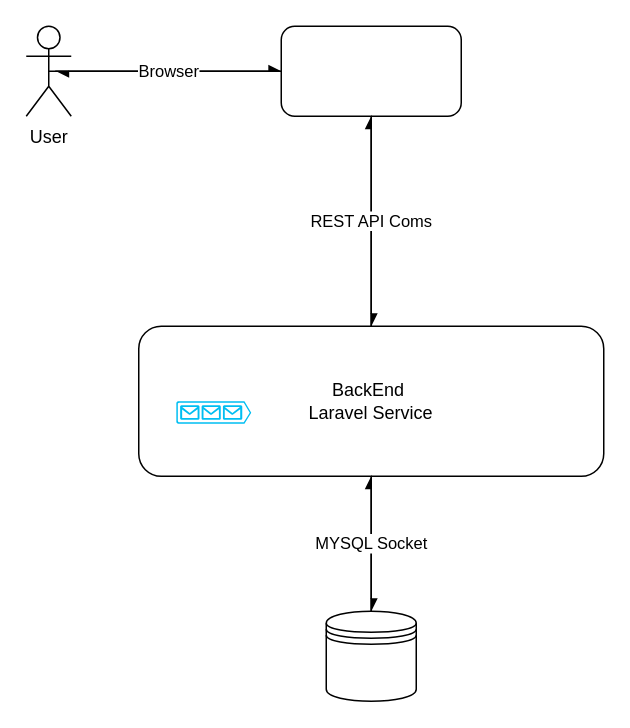
The diagram is 630 pixels wide and 728 high, and some of its shapes have lost their labels. The shapes that lost their labels are listed below. From the top down, each one's centre as x and y in pixels, then its label:
the point at 370,70: FrontEnd Vue Js Web App
the point at 213,411: Laravel Ques
